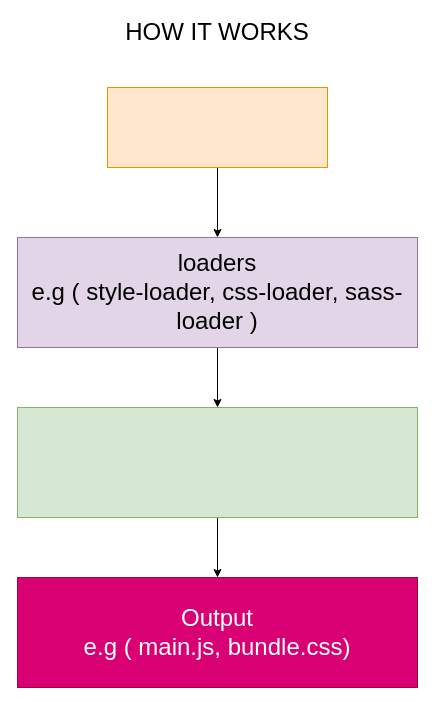
The diagram is 435 pixels wide and 705 high, and some of its shapes have lost their labels. The centre of each missing label's shape, as x and y in pixels:
"entry e.g ( index.js )" belongs at [217,127].
"Plugins e.g ( HtmlWebpackPlugin)" belongs at [217,462].
